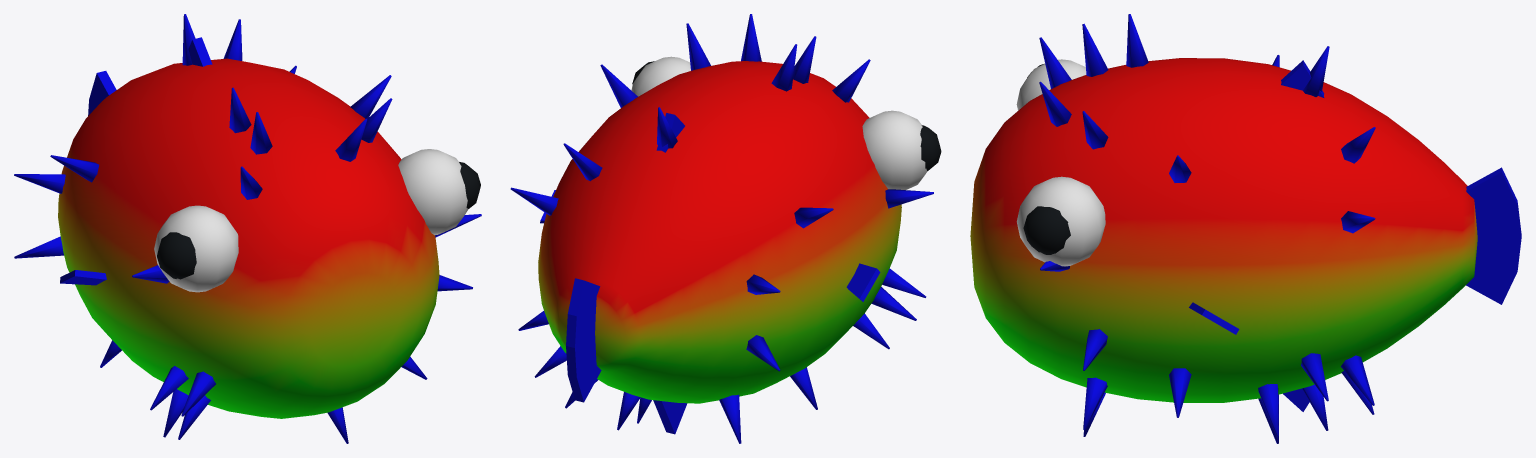
The model's file is fish_round.glb.
The picture shows the model from 3 angles, left to right: view 1: azimuth 30°, elevation 25°; view 2: azimuth 150°, elevation 25°; view 3: azimuth 270°, elevation 25°; orthographic projection. The views are drawn at different scales.
Visible parts, largest first — view 1: Body, Eye; view 2: Body, Eye; view 3: Body, Eye.
Part boxes in pixels (x1,y1,x2,y2): Body: [14, 14, 481, 443]; Eye: [154, 149, 480, 292]; Body: [510, 14, 933, 443]; Eye: [631, 56, 941, 189]; Body: [970, 14, 1521, 443]; Eye: [1016, 59, 1105, 266].
Bounding box in the file's own units: 0.7268 × 0.7476 × 0.977.
